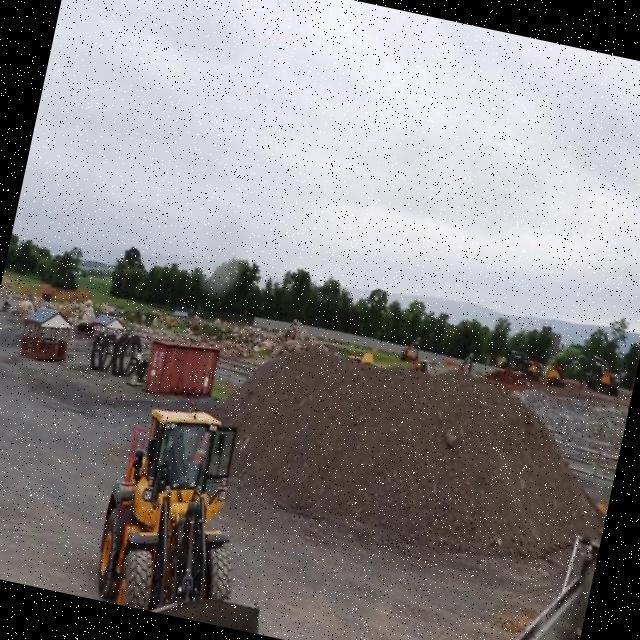Excavator: (544, 347, 588, 390), (584, 352, 624, 395), (505, 348, 544, 382), (398, 332, 421, 362)
Loader: (87, 386, 306, 634)
